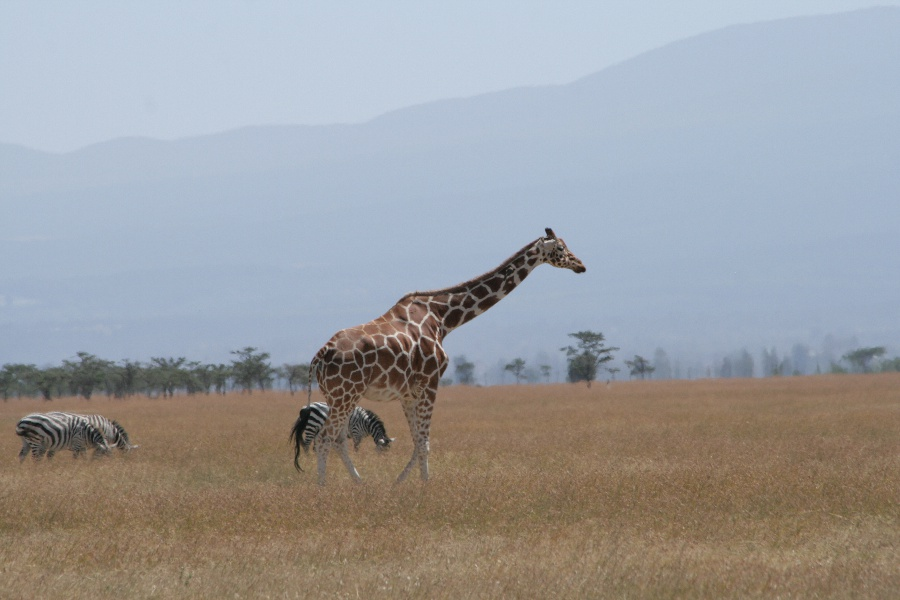giraffe: (296, 220, 591, 490)
